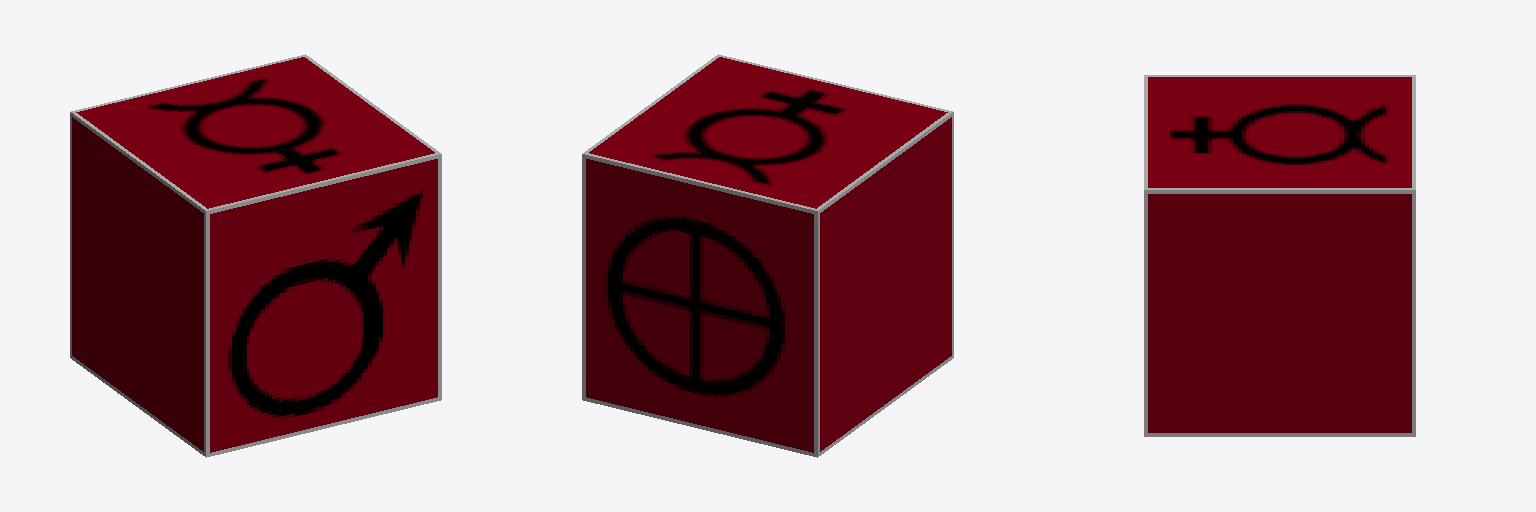
3 renders of one model, left to right at view 1: azimuth 30°, elevation 25°; view 2: azimuth 150°, elevation 25°; view 3: azimuth 270°, elevation 25°, orthographic.
Parts seen in each view (by area): view 1: pCube1; view 2: pCube1; view 3: pCube1.
Boxes of the visible parts, <box> form: pCube1: <box>70,54,441,457</box>; pCube1: <box>582,54,953,457</box>; pCube1: <box>1144,75,1415,436</box>.
Size of the model in its own units: 2 by 2 by 2.
1 materials, 1 textured.